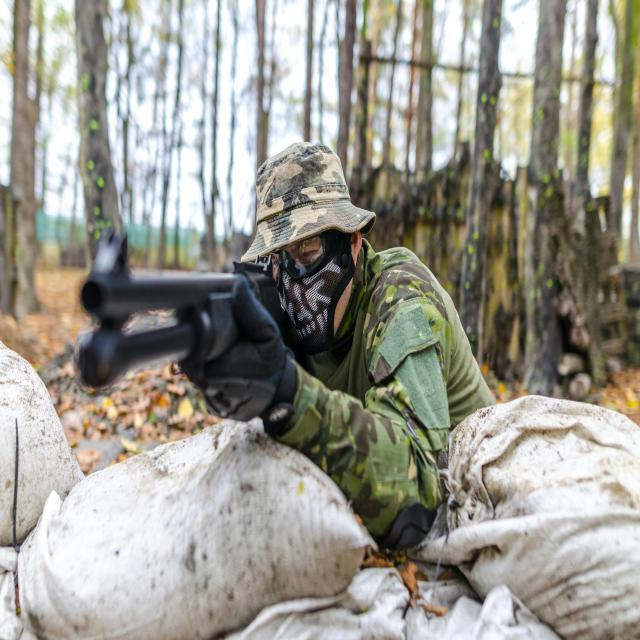Gun: (77, 228, 237, 387), (244, 263, 293, 347)
